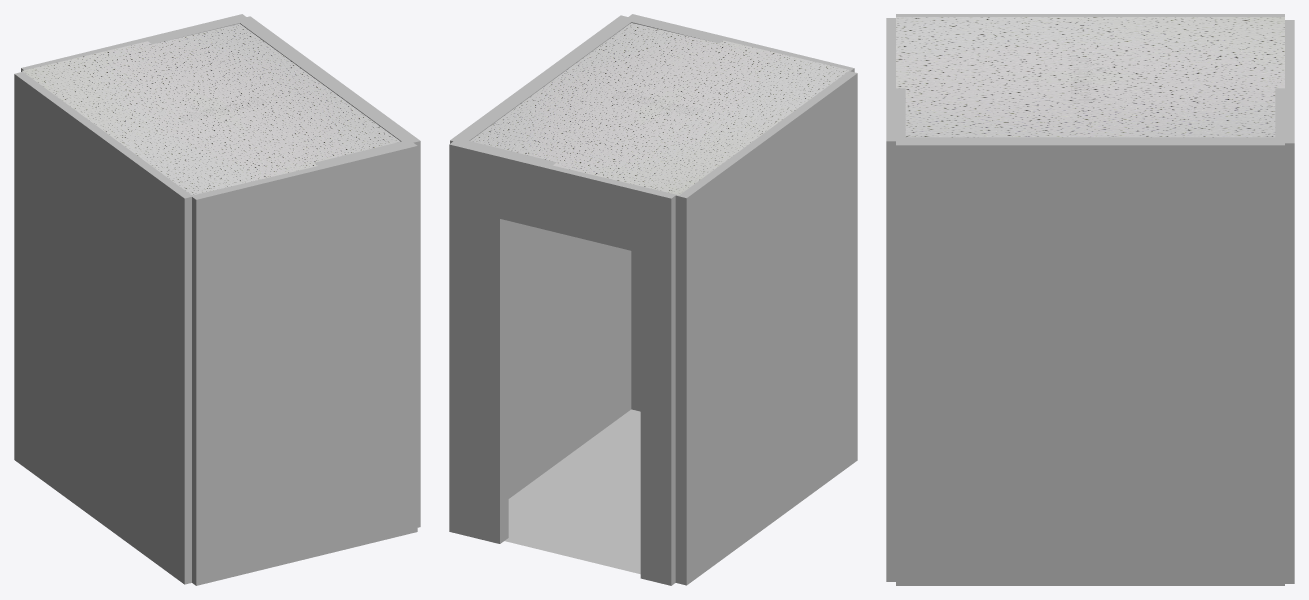
Rendered from baño.FBX.
3 renders of one model, left to right at view 1: azimuth 30°, elevation 25°; view 2: azimuth 150°, elevation 25°; view 3: azimuth 270°, elevation 25°, orthographic. The views are drawn at different scales.
Visible parts, largest first — view 1: Box002, Box001, Plane002, Box003, Box004; view 2: Box001, Box004, Plane002, Box003, Plane001, Box002; view 3: Box003, Plane002, Box002, Box004, Box001.
Part boxes in pixels (<box>): Box002: <box>190,139,417,585</box>; Box001: <box>14,71,198,584</box>; Plane002: <box>22,23,400,195</box>; Box003: <box>236,16,420,527</box>; Box004: <box>21,14,249,71</box>; Box001: <box>672,71,857,585</box>; Box004: <box>449,140,675,585</box>; Plane002: <box>470,23,849,195</box>; Box003: <box>450,15,634,498</box>; Plane001: <box>505,409,640,574</box>; Box002: <box>625,14,854,411</box>; Box003: <box>896,137,1284,585</box>; Plane002: <box>896,17,1284,137</box>; Box002: <box>886,18,905,581</box>; Box004: <box>1275,20,1294,583</box>; Box001: <box>896,14,1284,16</box>.
Bounding box in the file's own units: 160 × 251 × 210.
